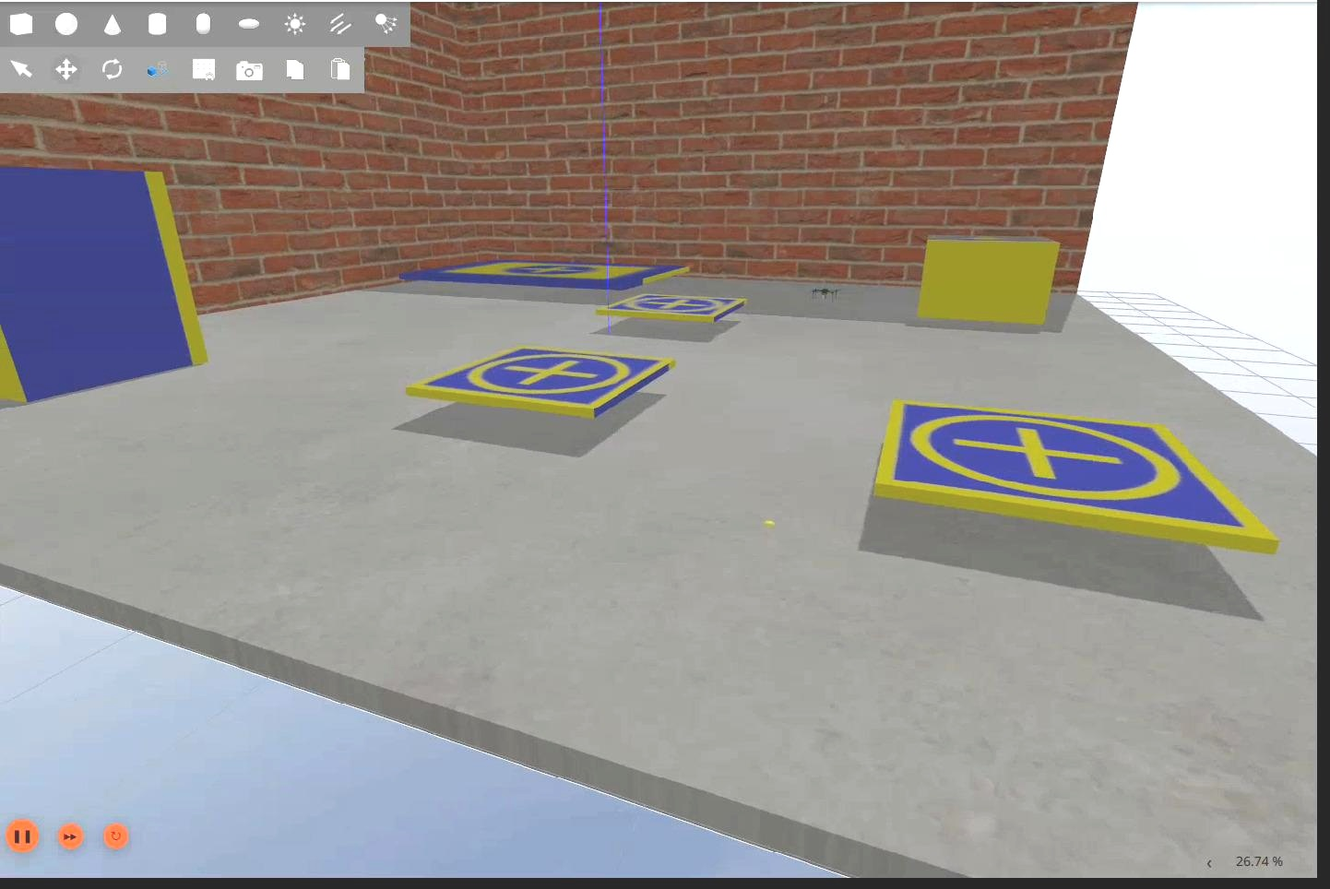large_base: (400, 258, 693, 297)
small_base: (871, 397, 1273, 561), (410, 345, 681, 424), (598, 290, 749, 330)
